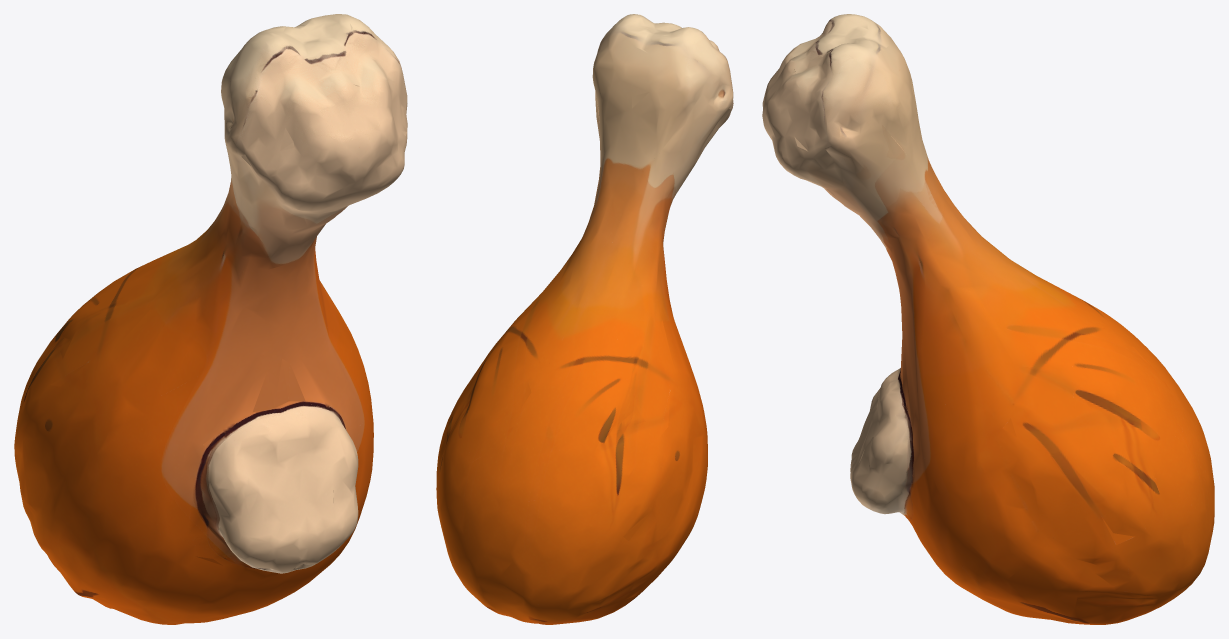
The model's file is CuisseDePoulet.fbx.
The picture shows the model from 3 angles, left to right: view 1: azimuth 30°, elevation 25°; view 2: azimuth 150°, elevation 25°; view 3: azimuth 270°, elevation 25°; orthographic projection. The views are drawn at different scales.
Visible parts, largest first — view 1: Mesh_0; view 2: Mesh_0; view 3: Mesh_0.
Boxes of the visible parts, x1=… form: Mesh_0: x1=14, y1=14, x2=407, y2=624; Mesh_0: x1=436, y1=14, x2=733, y2=624; Mesh_0: x1=762, y1=14, x2=1214, y2=624.
Bounding box in the file's own units: 86.68 × 190 × 135.
Materials: 1 (1 with a texture image).
